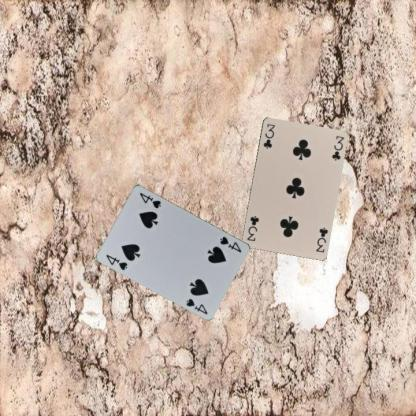3c: (313, 224, 329, 254), (261, 121, 276, 150)
4s: (217, 234, 243, 254), (104, 252, 129, 271)
